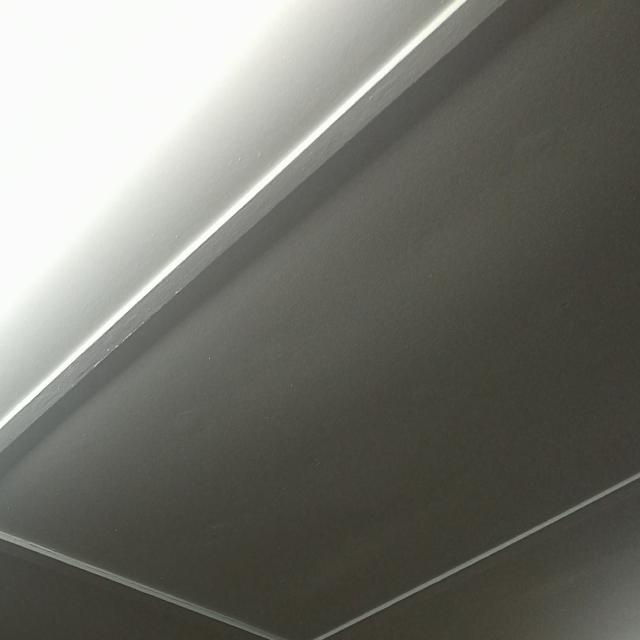fluorescent tube: (0, 0, 355, 501)
